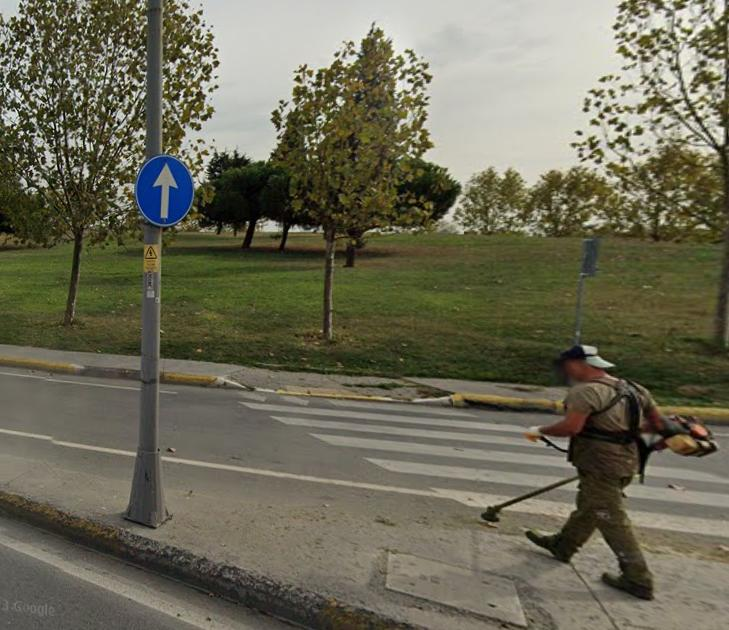forward: (142, 155, 191, 225)
